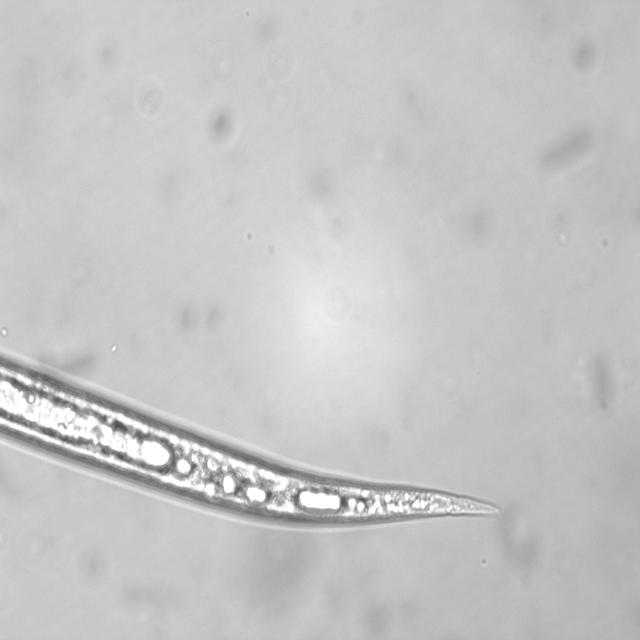Meloidogyne: (240, 447, 526, 535)
